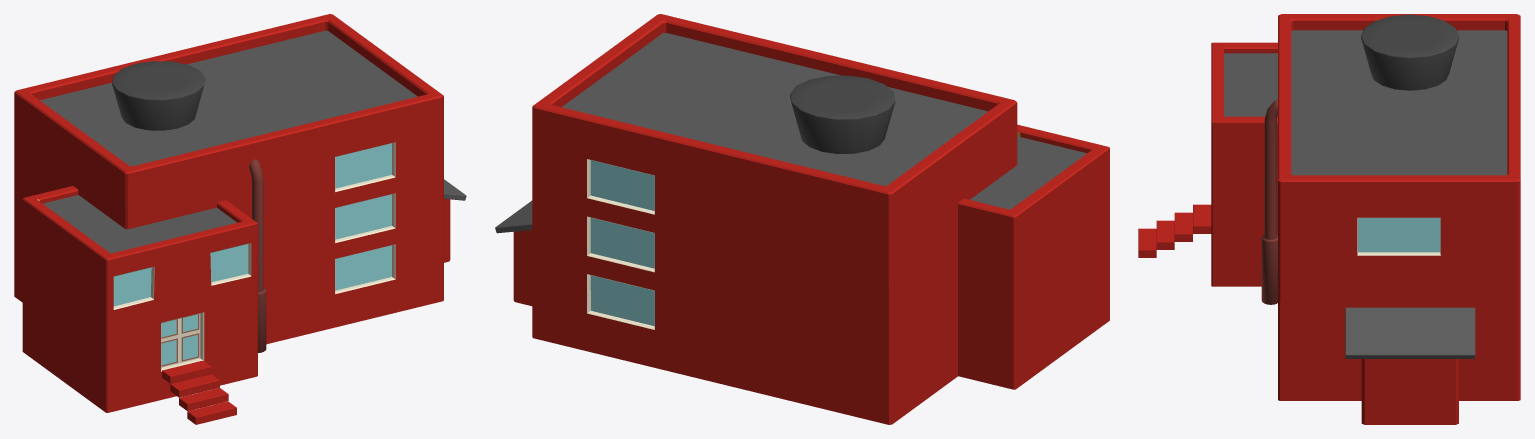
The model's file is edificio_14.fbx.
3 views of the same model, side by side, from view 1: azimuth 30°, elevation 25°; view 2: azimuth 150°, elevation 25°; view 3: azimuth 270°, elevation 25° (orthographic). The views are drawn at different scales.
Parts seen in each view (by area): view 1: Cube.002; view 2: Cube.002; view 3: Cube.002.
Boxes of the visible parts, bbox=[...] form: Cube.002: bbox=[14, 14, 466, 424]; Cube.002: bbox=[495, 14, 1109, 424]; Cube.002: bbox=[1138, 14, 1520, 424].
Size of the model in its own units: 4000 by 2085 by 2916.
